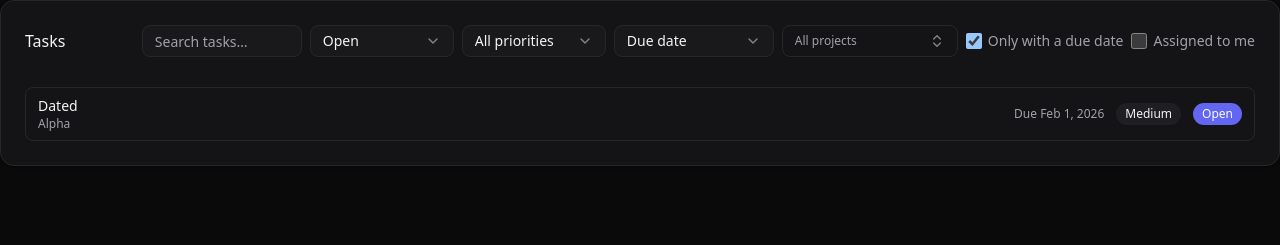
Test case: AllTasksSection › hides tasks without a due date by default, and shows them once unchecked
The width and height of the screenshot is (1280, 245).
Expected: the text "Dated" is shown, top-left (38, 96), bottom-right (78, 116)
Expected: the text "Undated" is not shown
Click the checkbox labelled "Only with a due date" at (974, 41), box top-left (966, 33), bottom-right (982, 49)
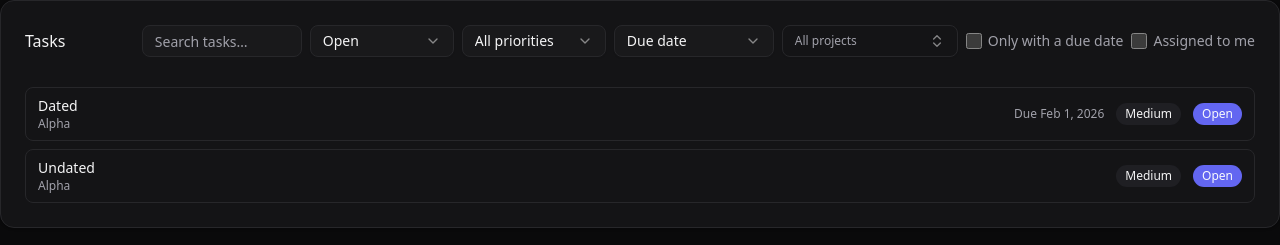
Expected: the text "Undated" is shown, top-left (38, 158), bottom-right (95, 178)
